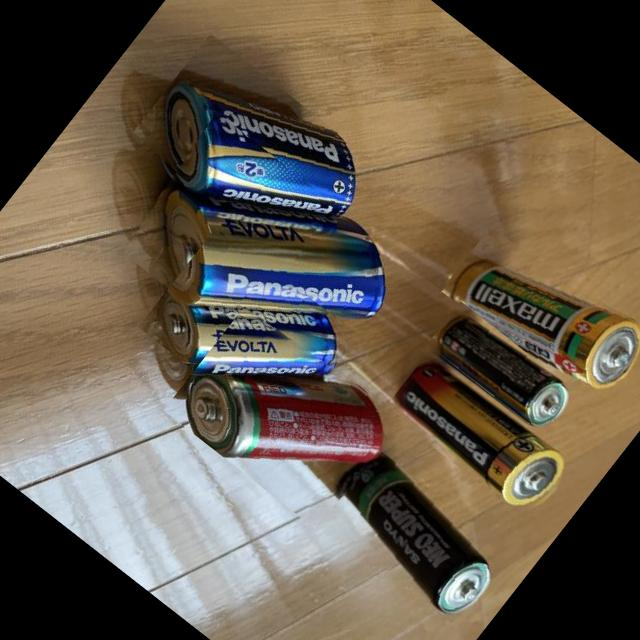Hazard: (109, 111, 412, 400), (122, 33, 385, 282), (162, 298, 407, 532), (137, 224, 360, 438), (439, 213, 640, 415), (308, 440, 512, 628), (382, 348, 578, 524), (422, 301, 580, 443)
